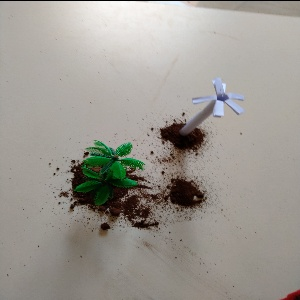plant: (72, 139, 140, 209)
weed: (179, 85, 237, 137)
